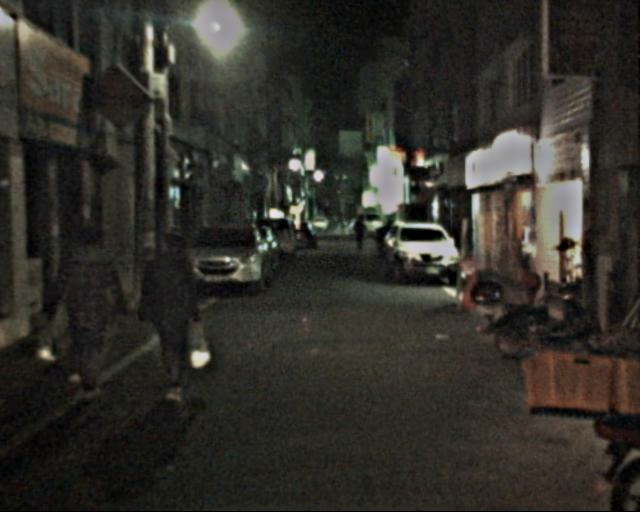person: (50, 221, 124, 400), (138, 229, 209, 409), (351, 217, 367, 254)
